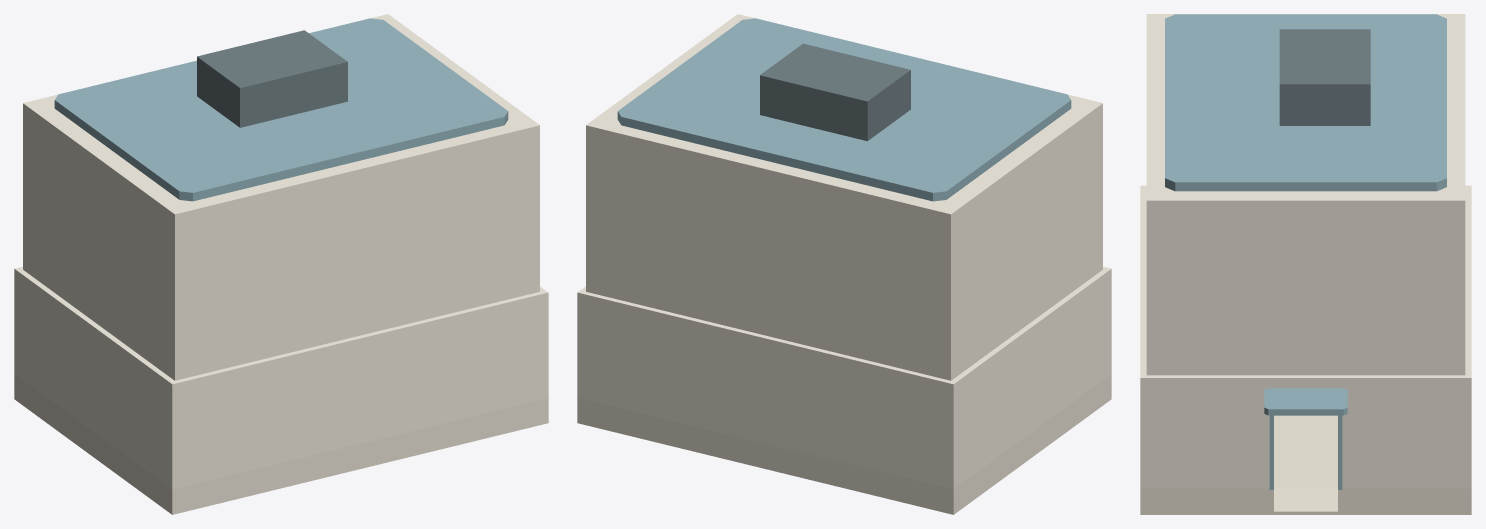
File: Halo_Rowhouse_ShadowProxy.glb
3 views of the same model, side by side, from view 1: azimuth 30°, elevation 25°; view 2: azimuth 150°, elevation 25°; view 3: azimuth 270°, elevation 25° (orthographic). The views are drawn at different scales.
Parts seen in each view (by area): view 1: Halo_Rowhouse_ShadowProxy / Structure, Halo_Rowhouse_ShadowProxy / Roof, Halo_Rowhouse_ShadowProxy / Foundation; view 2: Halo_Rowhouse_ShadowProxy / Structure, Halo_Rowhouse_ShadowProxy / Roof, Halo_Rowhouse_ShadowProxy / Foundation; view 3: Halo_Rowhouse_ShadowProxy / Structure, Halo_Rowhouse_ShadowProxy / Roof, Halo_Rowhouse_ShadowProxy / Foundation, Halo_Rowhouse_ShadowProxy / Entrance modules.
Boxes of the visible parts, bbox=[...] form: Halo_Rowhouse_ShadowProxy / Structure: bbox=[14, 14, 548, 489]; Halo_Rowhouse_ShadowProxy / Roof: bbox=[54, 18, 508, 201]; Halo_Rowhouse_ShadowProxy / Foundation: bbox=[14, 374, 548, 514]; Halo_Rowhouse_ShadowProxy / Structure: bbox=[577, 14, 1111, 489]; Halo_Rowhouse_ShadowProxy / Roof: bbox=[617, 18, 1071, 201]; Halo_Rowhouse_ShadowProxy / Foundation: bbox=[577, 374, 1111, 514]; Halo_Rowhouse_ShadowProxy / Structure: bbox=[1140, 14, 1471, 488]; Halo_Rowhouse_ShadowProxy / Roof: bbox=[1165, 14, 1446, 191]; Halo_Rowhouse_ShadowProxy / Foundation: bbox=[1140, 415, 1471, 514]; Halo_Rowhouse_ShadowProxy / Entrance modules: bbox=[1264, 388, 1347, 514].
Bounding box in the file's own units: 12.2 × 9.65 × 8.
